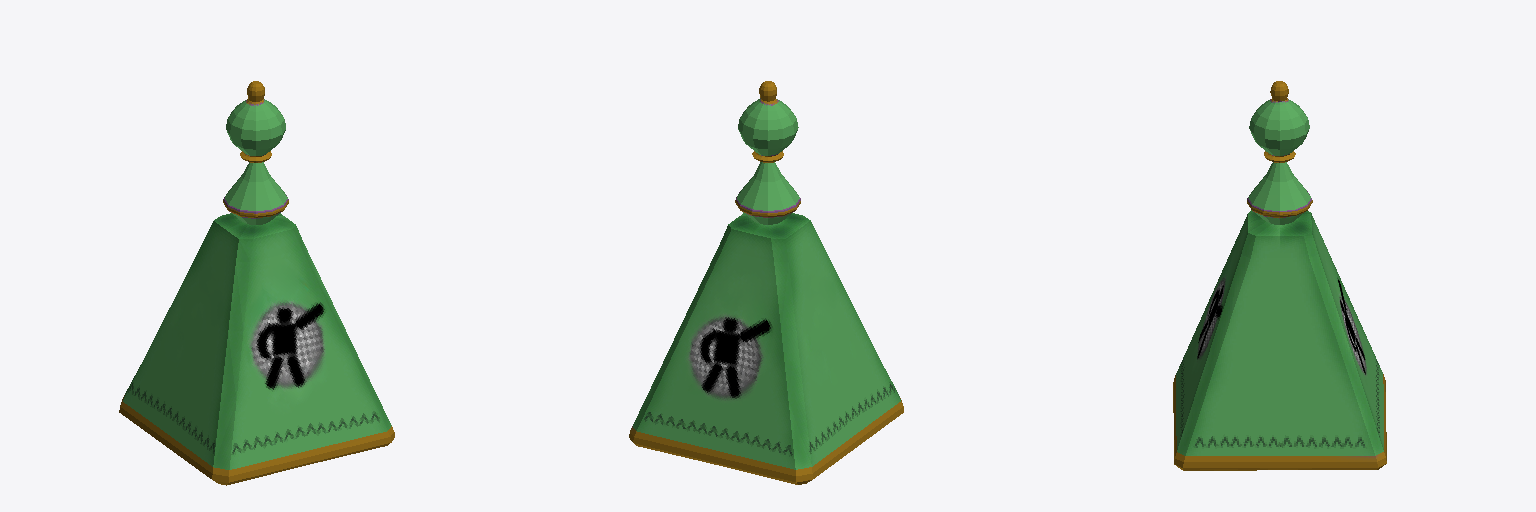
The picture shows the model from 3 angles: view 1: azimuth 30°, elevation 25°; view 2: azimuth 150°, elevation 25°; view 3: azimuth 270°, elevation 25°; orthographic projection.
Visible parts, largest first — view 1: Handle1; view 2: Handle1; view 3: Handle1.
Part boxes in pixels (left/top/right/bottom): Handle1: left=119, top=81, right=394, bottom=485; Handle1: left=629, top=81, right=903, bottom=484; Handle1: left=1173, top=81, right=1386, bottom=470.
Size of the model in its own units: 0.4993 by 0.913 by 0.5085.
1 materials, 1 textured.